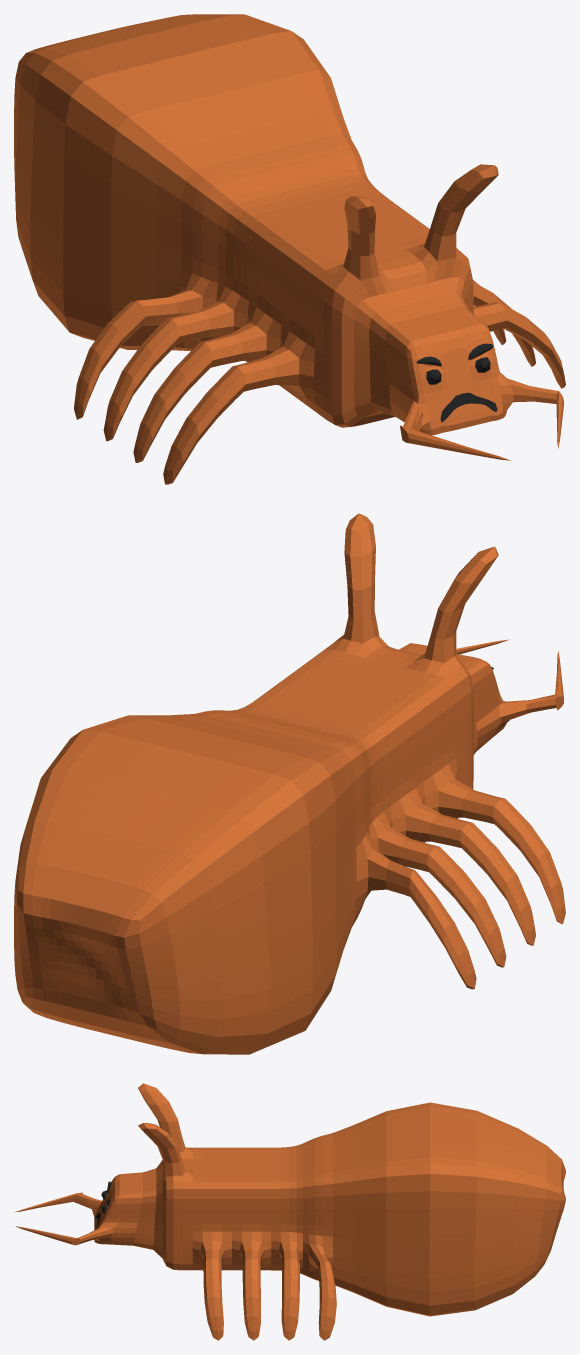
The model's file is Bug_enemy1.fbx.
The picture shows the model from 3 angles, top to bottom: view 1: azimuth 30°, elevation 25°; view 2: azimuth 150°, elevation 25°; view 3: azimuth 270°, elevation 25°; orthographic projection. The views are drawn at different scales.
Parts seen in each view (by area): view 1: Cube; view 2: Cube; view 3: Cube.
Boxes of the visible parts, box(x1,y1,x2,y2) form: Cube: box(14, 14, 565, 484); Cube: box(14, 513, 565, 1054); Cube: box(15, 1083, 565, 1340).
Size of the model in its own units: 415 by 306 by 832.
